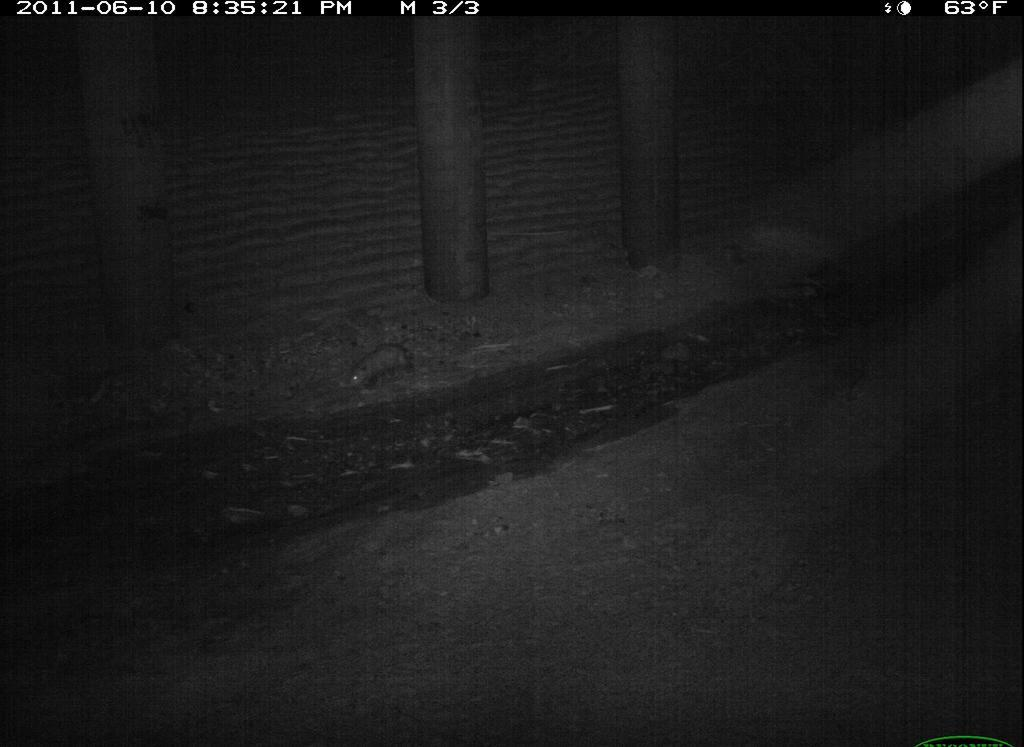opossum: (685, 674, 843, 747)
